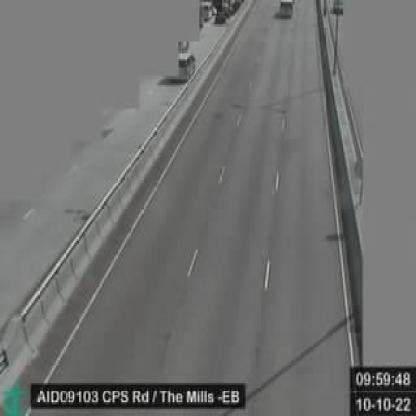Car: (277, 0, 293, 17)
